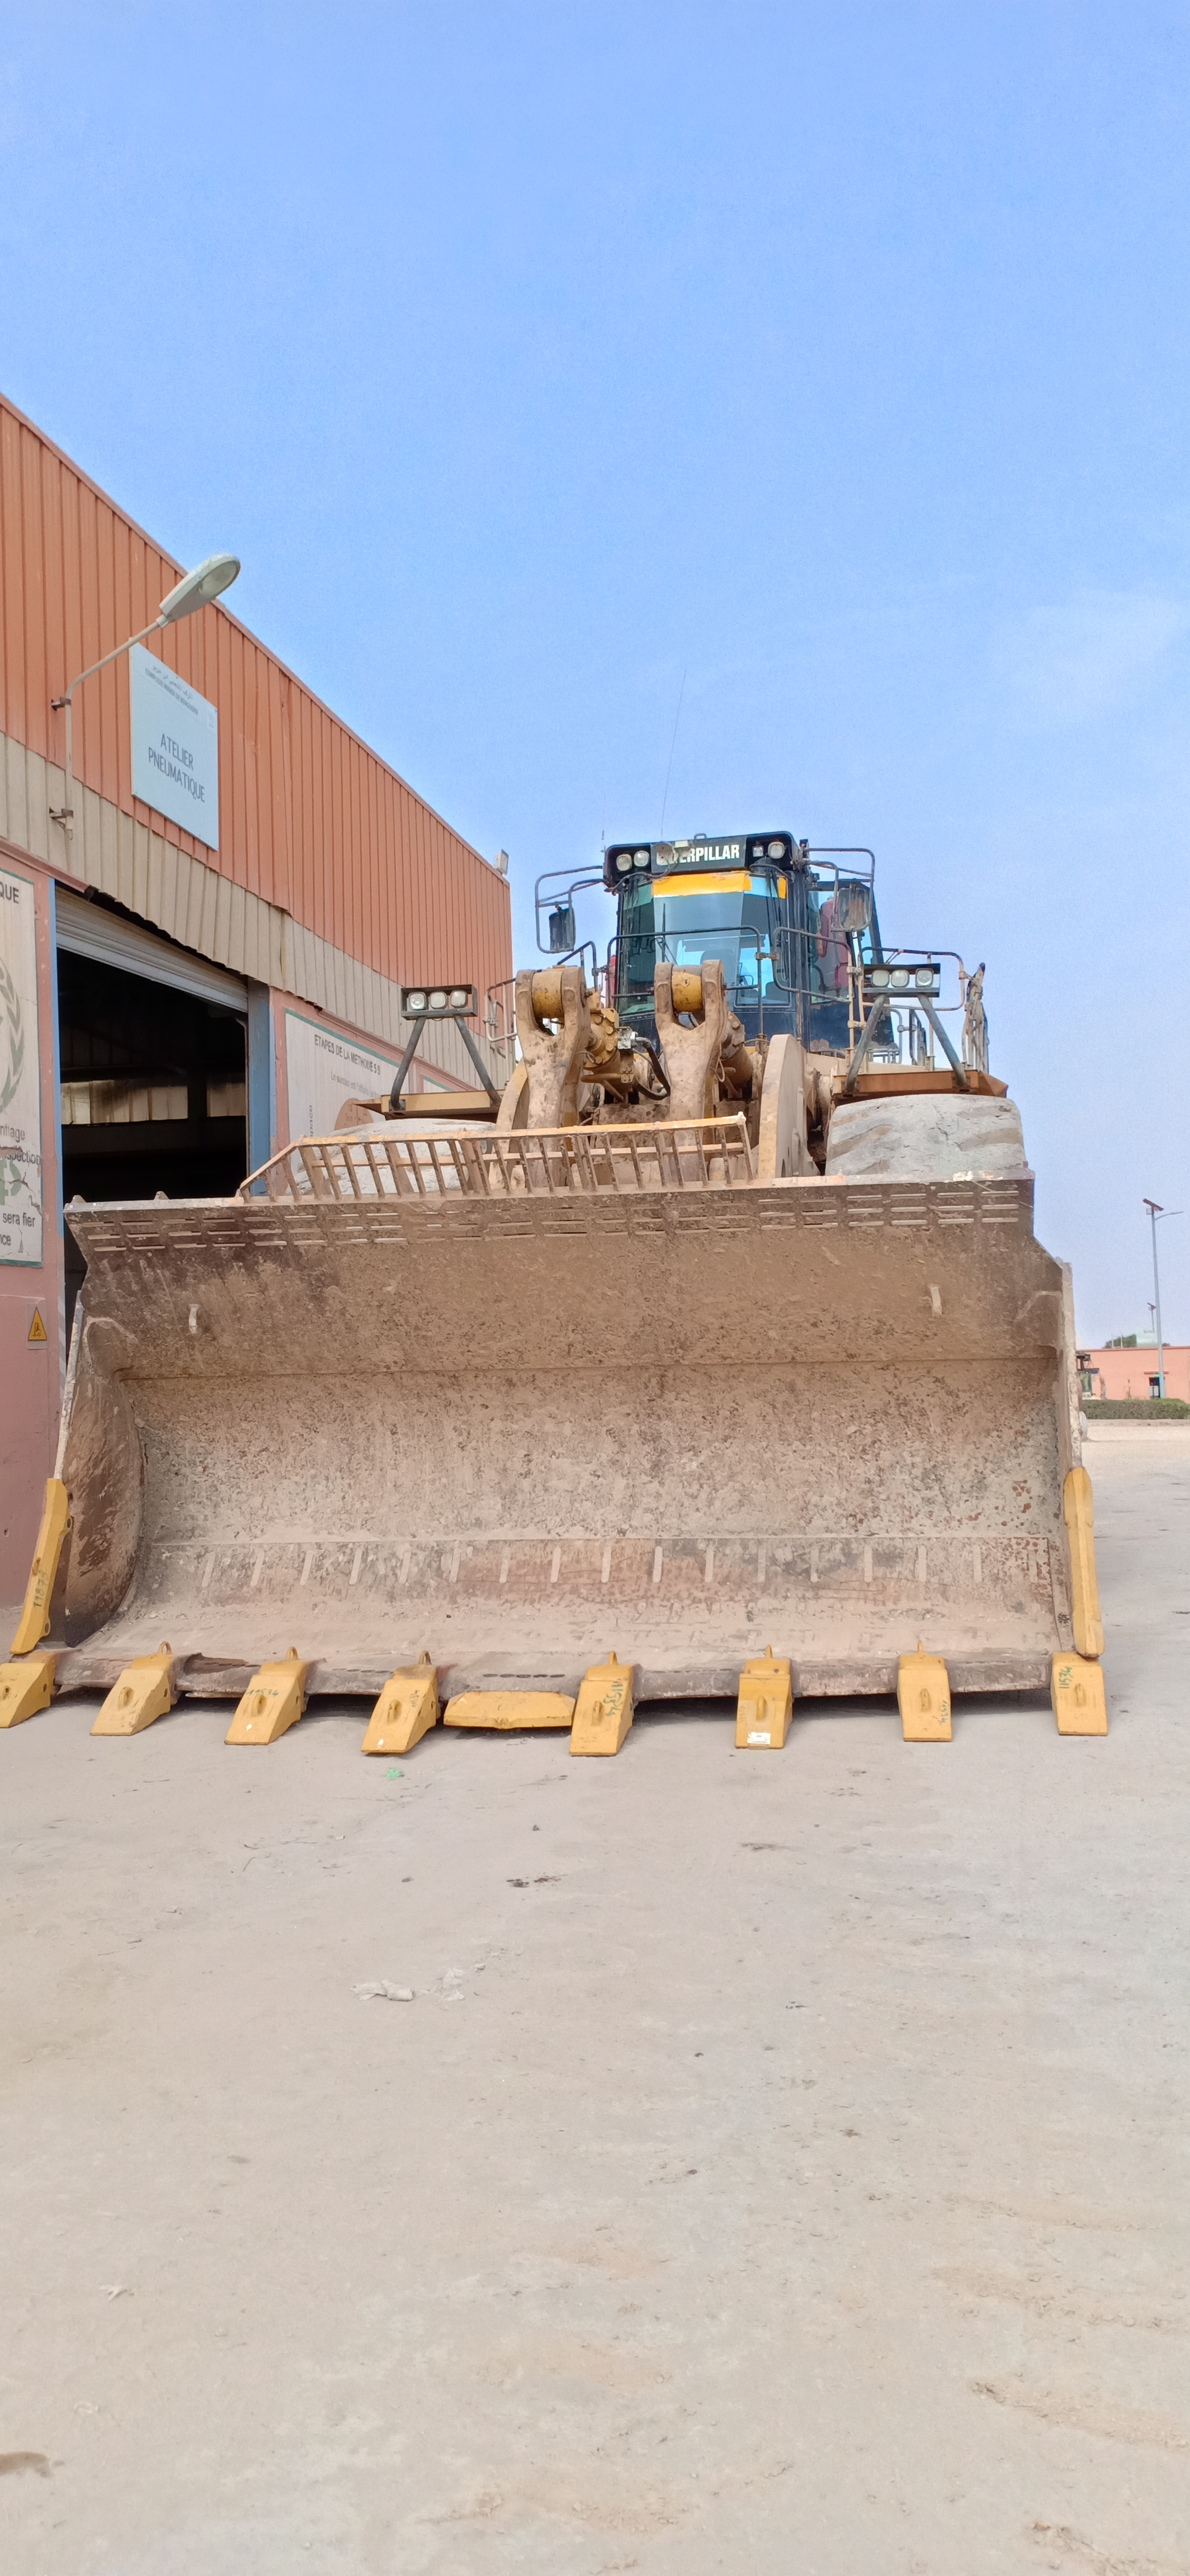chargeuse: (0, 797, 1152, 1796)
